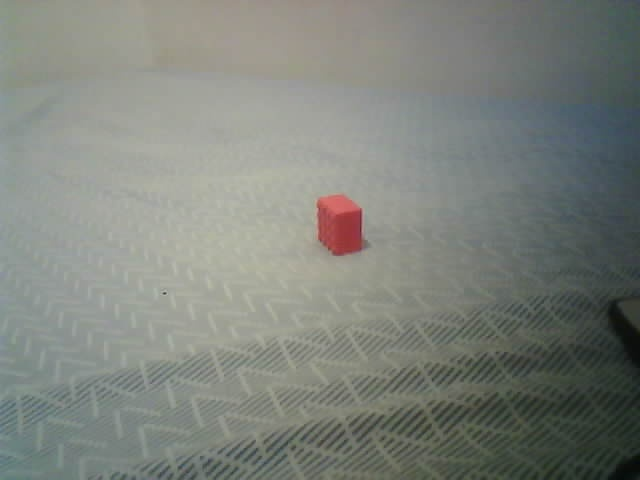lego: (315, 192, 363, 257)
